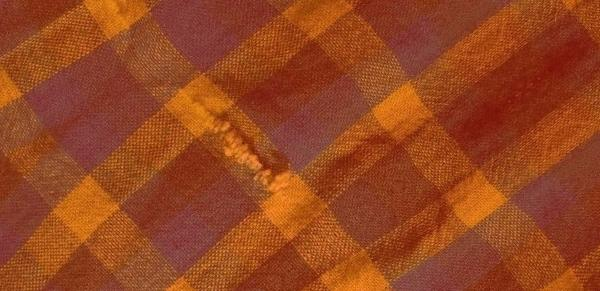knot: (176, 77, 296, 205)
